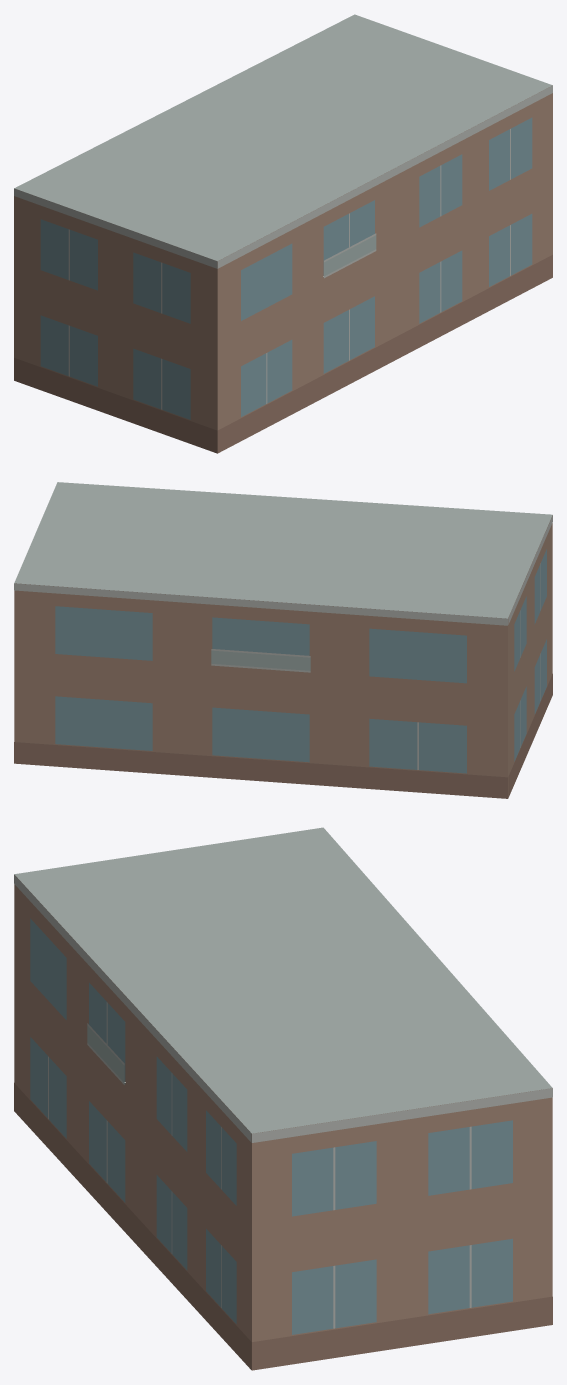
Rendered from survey-upis-32910101.glb.
3 renders of one model, top to bottom at view 1: azimuth 30°, elevation 25°; view 2: azimuth 150°, elevation 25°; view 3: azimuth 270°, elevation 25°, orthographic. The views are drawn at different scales.
Parts seen in each view (by area): view 1: survey-upis-32910101.tmp; view 2: survey-upis-32910101.tmp; view 3: survey-upis-32910101.tmp.
Part boxes in pixels (x1,y1,x2,y2): survey-upis-32910101.tmp: (14,14,552,453); survey-upis-32910101.tmp: (14,482,552,798); survey-upis-32910101.tmp: (14,827,552,1370).
Size of the model in its own units: 16.93 by 6.1 by 12.58.
